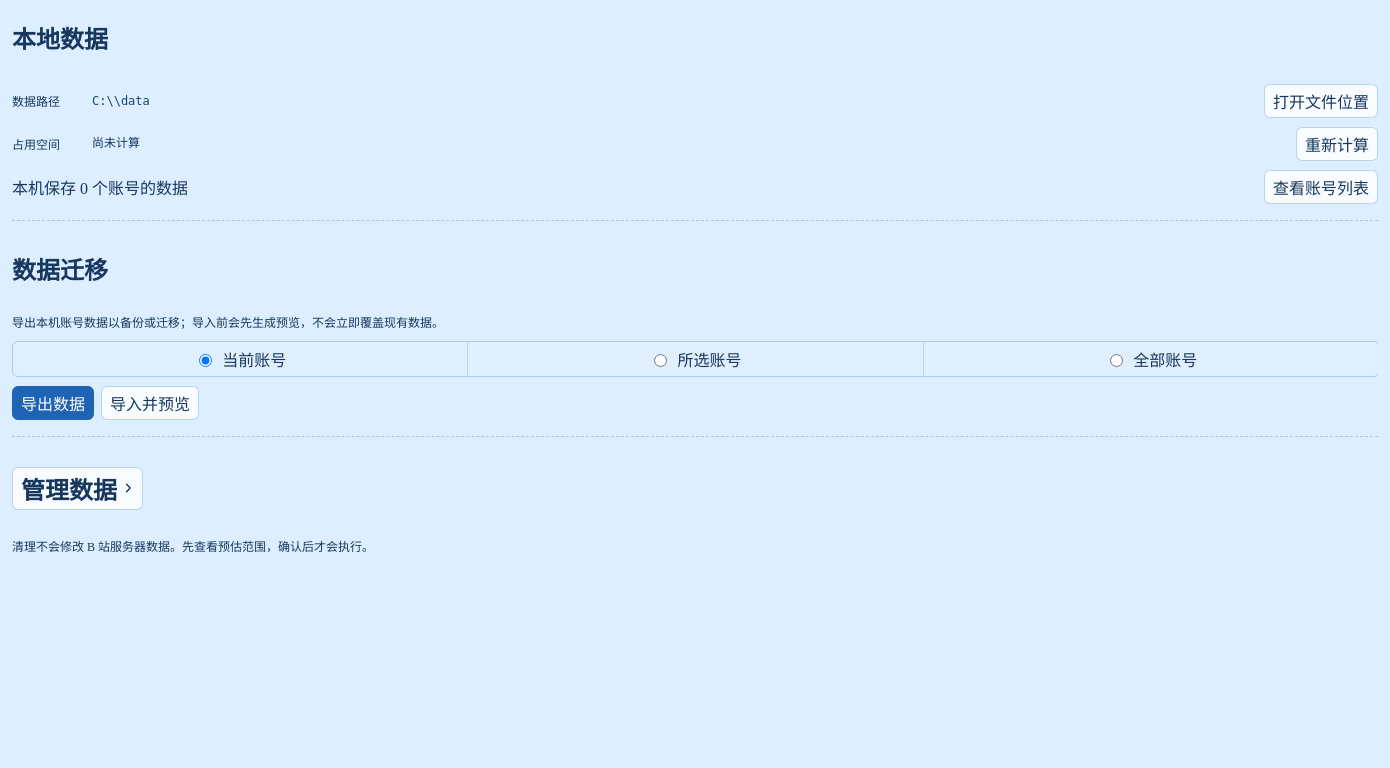
Test case: LocalDataSettings › shows categorized disk usage after asynchronous recalculation
Click the button "重新计算" at (1337, 144), box [1296,127,1378,161]
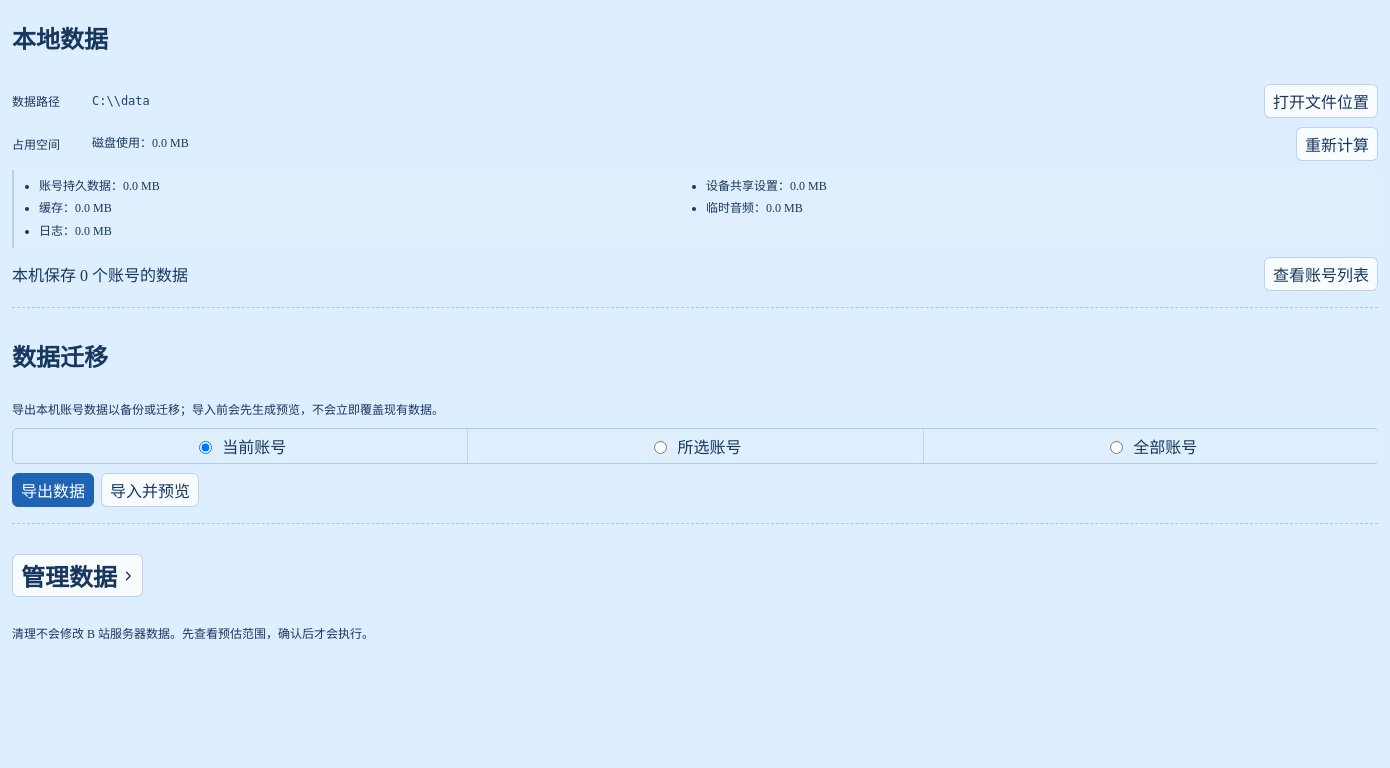
Expected: the list item "账号持久数据：0.0 MB" is shown, [39,179,160,193]
Expected: the list item "设备共享设置：0.0 MB" is shown, [706,179,827,193]
Expected: the list item "缓存：0.0 MB" is shown, [39,201,112,215]
